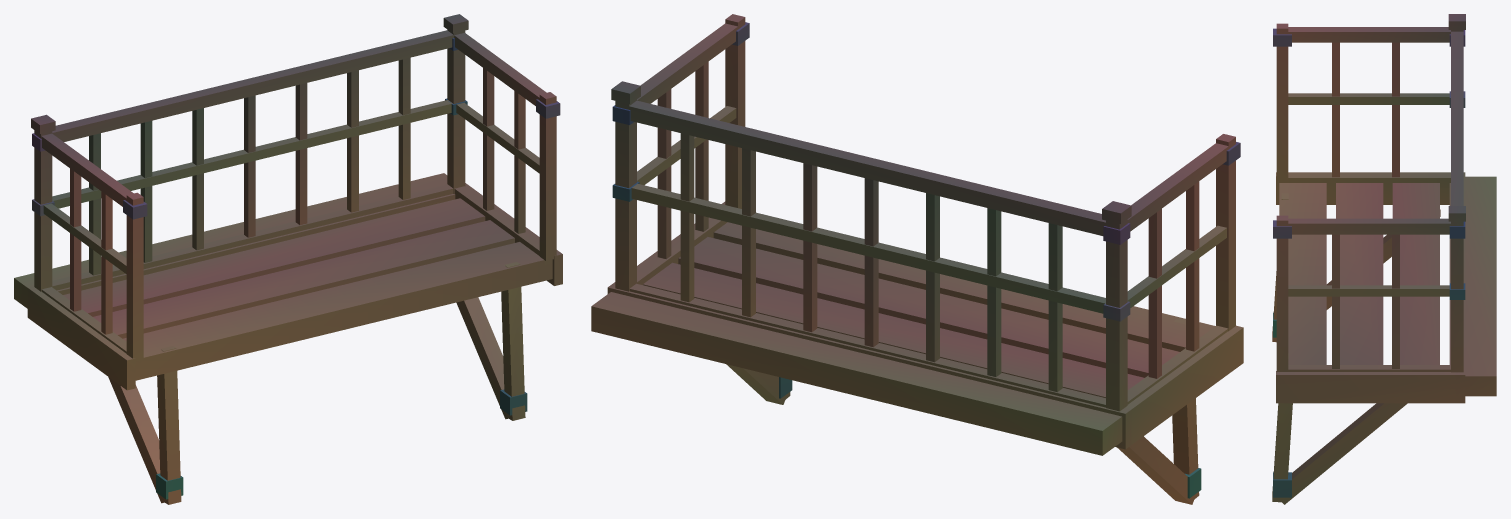
The model's file is balcony_3m.glb.
3 renders of one model, left to right at view 1: azimuth 30°, elevation 25°; view 2: azimuth 150°, elevation 25°; view 3: azimuth 270°, elevation 25°, orthographic. The views are drawn at different scales.
Parts seen in each view (by area): view 1: balcony, balcony_iron; view 2: balcony, balcony_iron; view 3: balcony, balcony_iron.
Part boxes in pixels (<box>): balcony: <box>14,14,562,504</box>; balcony_iron: <box>32,38,560,499</box>; balcony: <box>591,14,1243,504</box>; balcony_iron: <box>612,22,1240,498</box>; balcony: <box>1272,14,1496,504</box>; balcony_iron: <box>1273,28,1465,497</box>.
Size of the model in its own units: 3.04 by 2.16 by 1.42.
